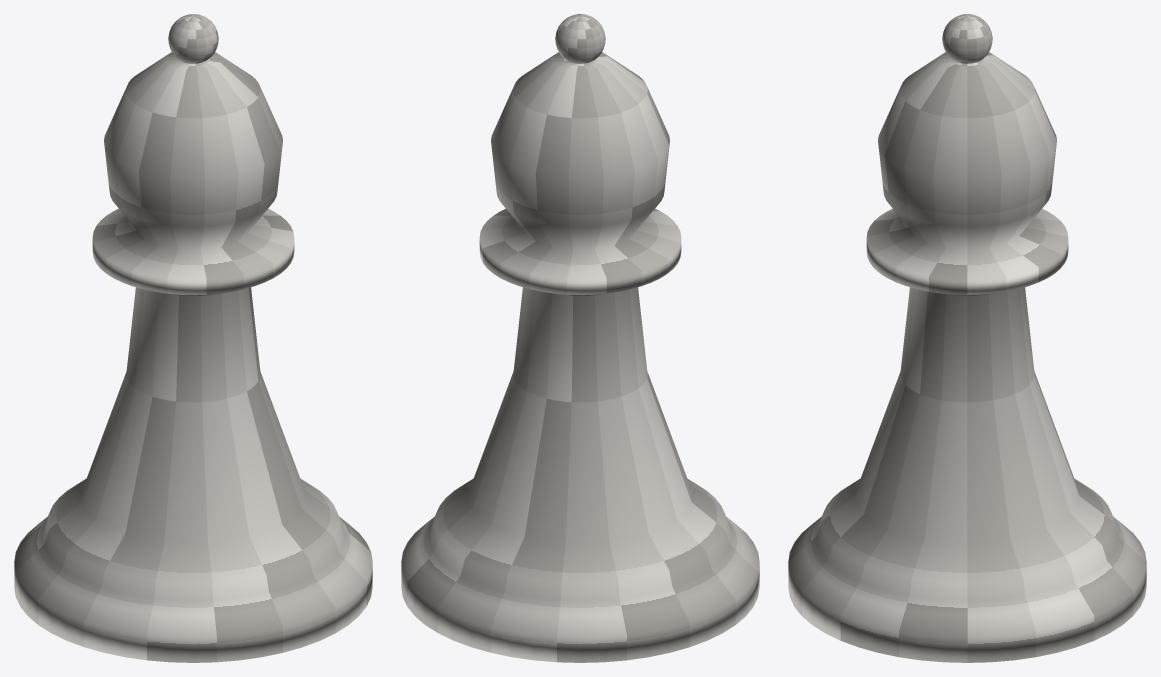
Rendered from bishop.glb.
3 views of the same model, side by side, from view 1: azimuth 30°, elevation 25°; view 2: azimuth 150°, elevation 25°; view 3: azimuth 270°, elevation 25° (orthographic).
Visible parts, largest first — view 1: split-part (×2); view 2: split-part (×2); view 3: split-part (×2).
Part boxes in pixels (x1,y1,x2,y2): split-part (×2): (14,14,372,662); split-part (×2): (401,14,759,662); split-part (×2): (788,14,1146,662).
Size of the model in its own units: 23.68 by 41.62 by 23.68.
Materials: 1 (1 with a texture image).
